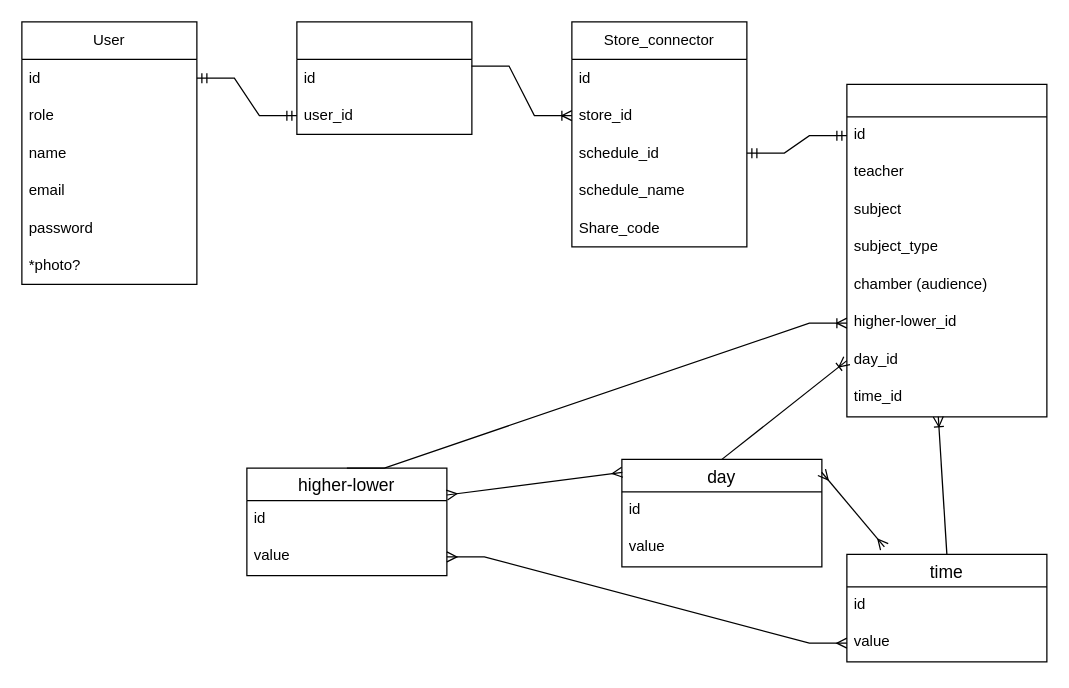
Some shapes in this 1069 by 688 pixel diagram are drawn without their labels. Each missing label, with the box of its shape:
Cell: (846, 83, 1047, 417)
Schedule store: (296, 21, 472, 134)
